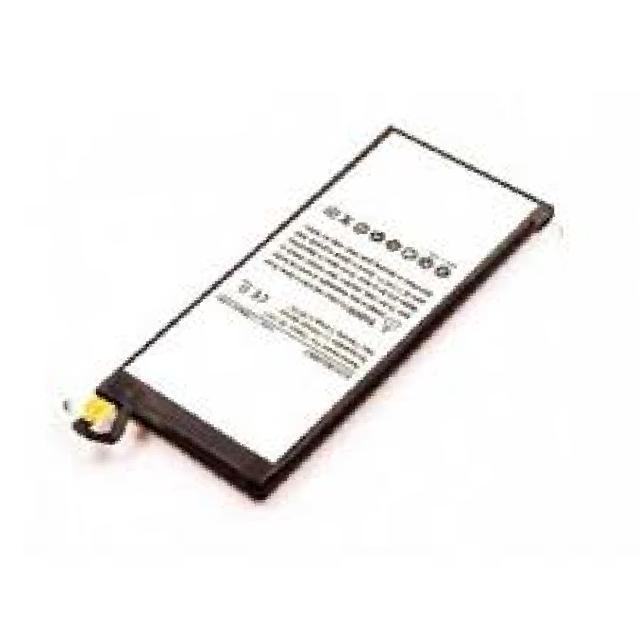Battery: (51, 112, 601, 526)
